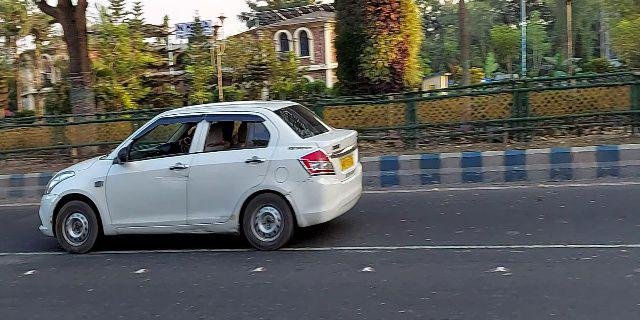Car: (36, 98, 365, 252)
